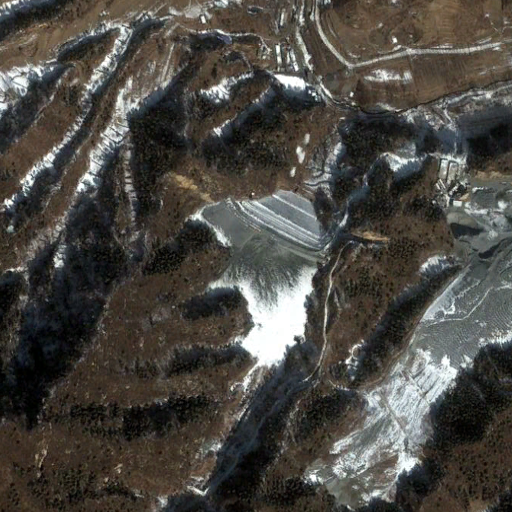tp: (196, 190, 328, 368)
